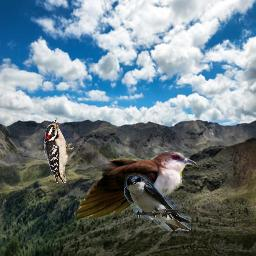Cuckoo: (74, 103, 198, 225)
Swallow: (124, 175, 191, 231)
Woodpecker: (44, 118, 74, 183)
